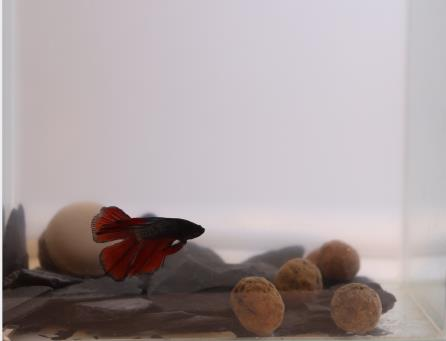fish: (89, 202, 207, 281)
